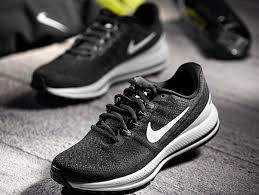nike: (147, 106, 190, 145)
